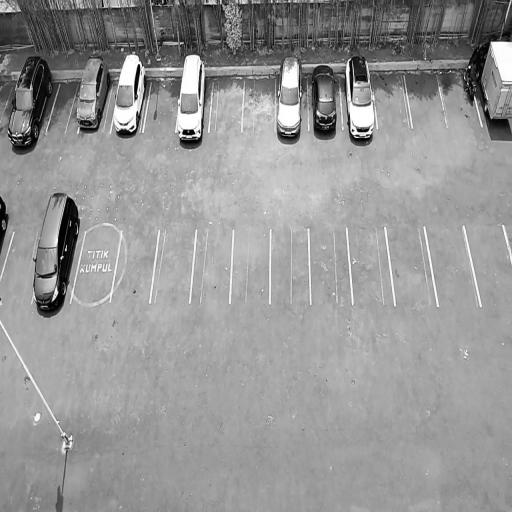Car: (29, 186, 85, 318), (3, 50, 60, 153), (472, 30, 512, 129), (110, 50, 151, 139), (342, 50, 380, 145), (175, 50, 209, 150), (75, 51, 114, 135), (309, 60, 342, 141), (276, 51, 305, 141)
Space Available: (426, 226, 479, 306), (387, 226, 436, 305), (466, 225, 512, 307), (71, 229, 121, 303), (111, 228, 159, 302), (348, 229, 395, 303), (151, 229, 196, 303), (191, 229, 233, 304), (270, 228, 311, 304), (310, 229, 352, 303), (231, 230, 271, 304), (0, 231, 41, 298), (371, 70, 412, 128), (405, 71, 447, 125), (143, 76, 182, 132), (209, 76, 244, 133), (46, 77, 82, 132), (243, 74, 275, 132), (0, 78, 18, 124)
